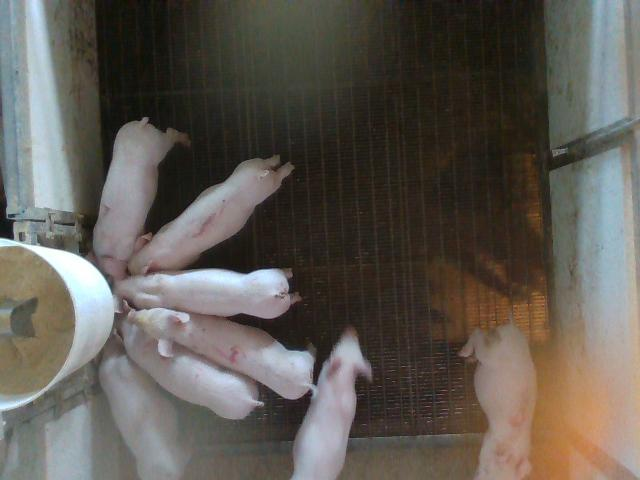pig-1: (129, 155, 294, 274)
pig-3: (460, 319, 536, 478)
pig-4: (128, 308, 314, 399)
